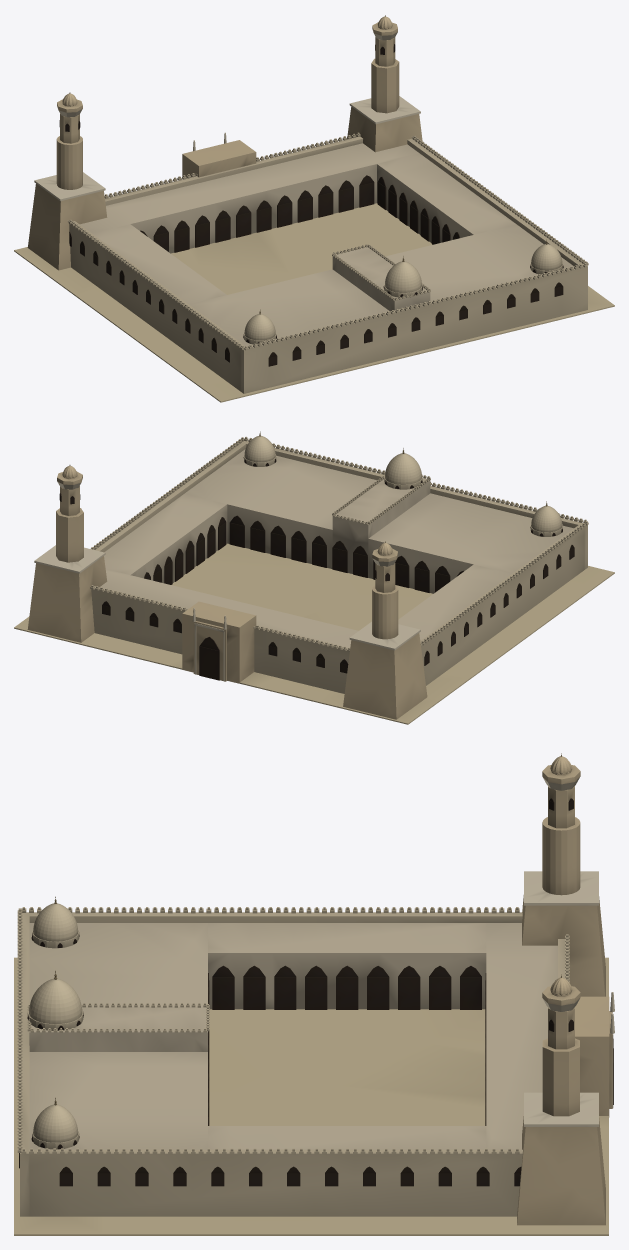
File: al-hakim.glb
3 views of the same model, one above another, from view 1: azimuth 30°, elevation 25°; view 2: azimuth 150°, elevation 25°; view 3: azimuth 270°, elevation 25° (orthographic). The views are drawn at different scales.
Parts seen in each view (by area): view 1: p0_walls, p1_arcades, p3_minarets, p2_portal and domes; view 2: p0_walls, p1_arcades, p3_minarets, p2_portal and domes; view 3: p0_walls, p1_arcades, p3_minarets, p2_portal and domes.
Boxes of the visible parts, x1,y1,x2,y2 form: p0_walls: [14, 132, 614, 402]; p1_arcades: [80, 143, 573, 345]; p3_minarets: [27, 15, 422, 270]; p2_portal and domes: [182, 132, 563, 344]; p0_walls: [14, 436, 614, 724]; p1_arcades: [100, 449, 573, 647]; p3_minarets: [27, 465, 427, 719]; p2_portal and domes: [182, 431, 562, 683]; p0_walls: [14, 907, 608, 1235]; p1_arcades: [29, 923, 557, 1149]; p3_minarets: [517, 753, 605, 1225]; p2_portal and domes: [27, 896, 614, 1149].
Bounding box in the file's own units: 110 × 43.4 × 101.
